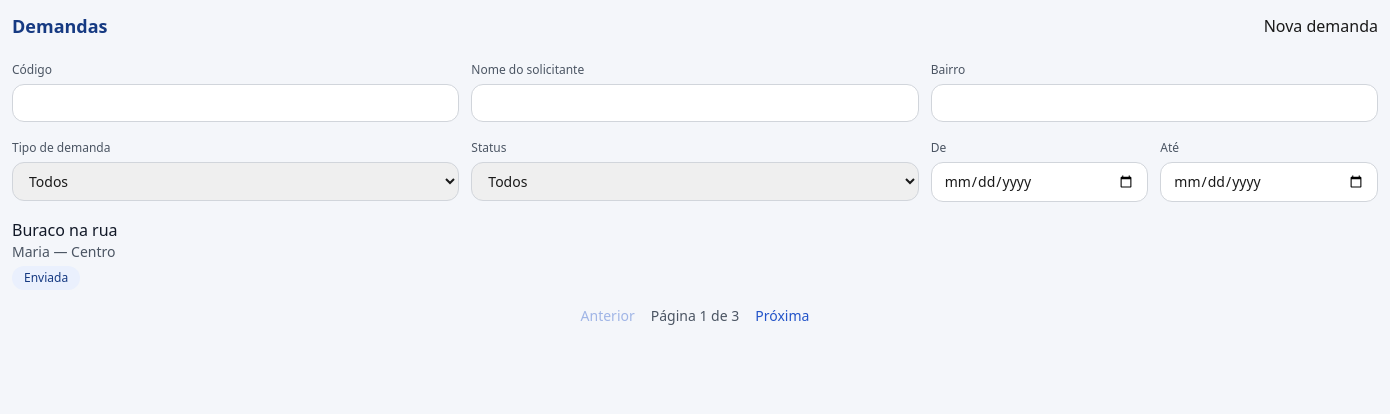
Test case: DemandasPage — robustez dos filtros › "Limpar filtros" limpa todos os campos, volta à página 1 e mantém o assessor da URL
This screenshot has width=1390, height=414.
Click the button "Próxima": (782, 316) 755,306 -> 809,326
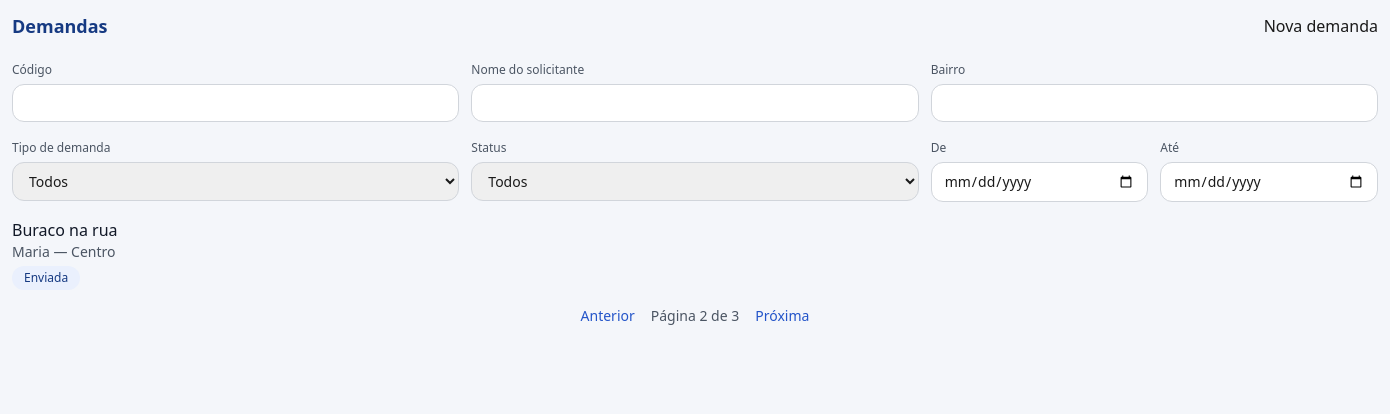
In the field labelled "Código": (236, 103) 12,84 -> 459,122, type "GD-1"
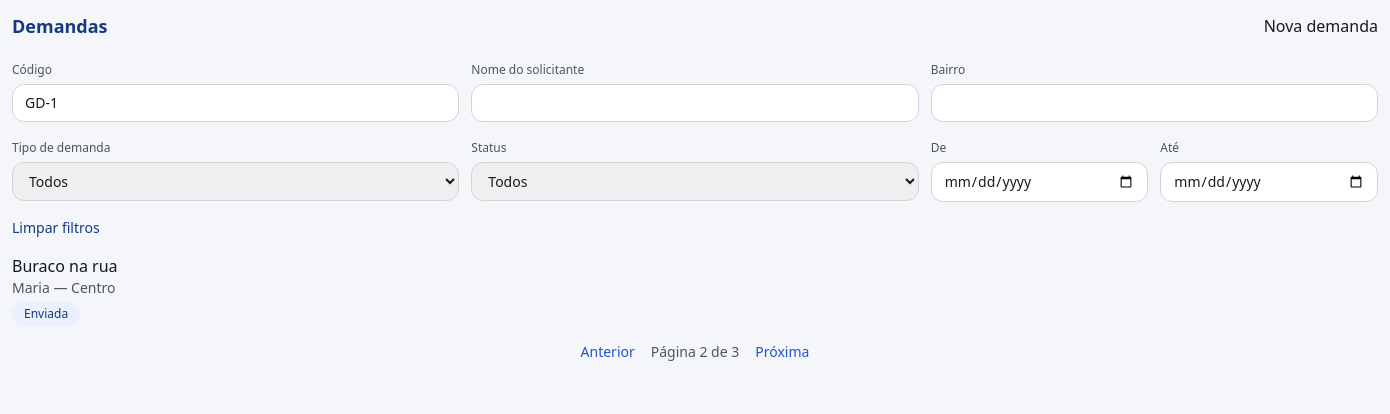
In the field labelled "Nome do solicitante": (695, 103) 471,84 -> 919,122, type "Maria"
In the field labelled "Bairro": (1154, 103) 931,84 -> 1378,122, type "Centro"
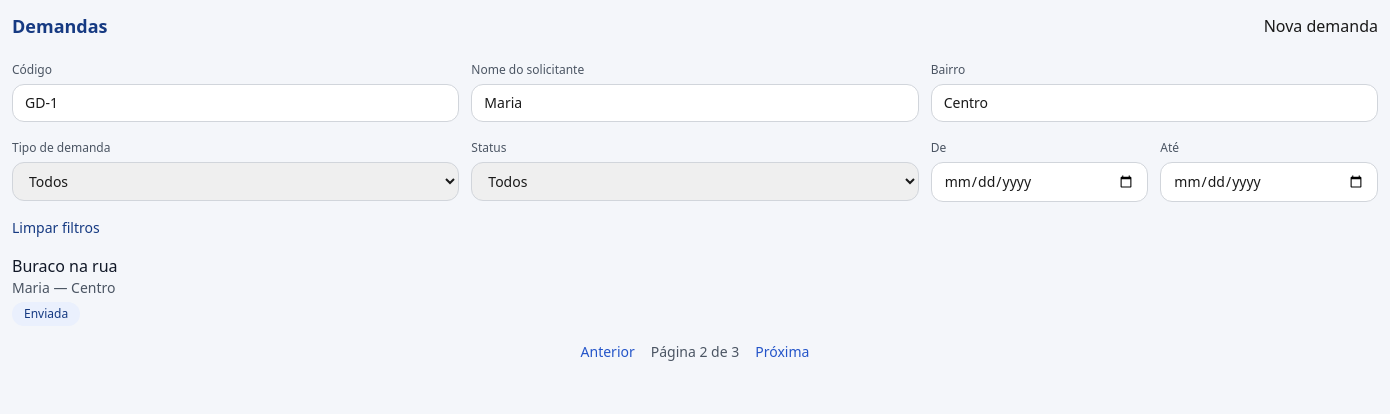
Select "Tapa-buraco" in the dropdown labelled "Tipo de demanda": (236, 182) 12,162 -> 459,201
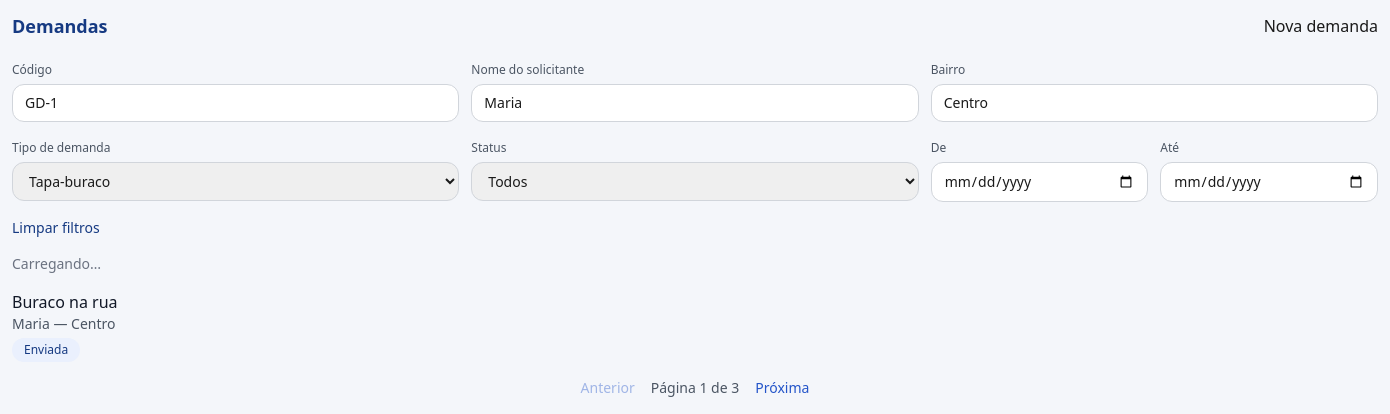
In the date field labelled "De": (1040, 182) 931,162 -> 1148,202, type "2026-10-01"
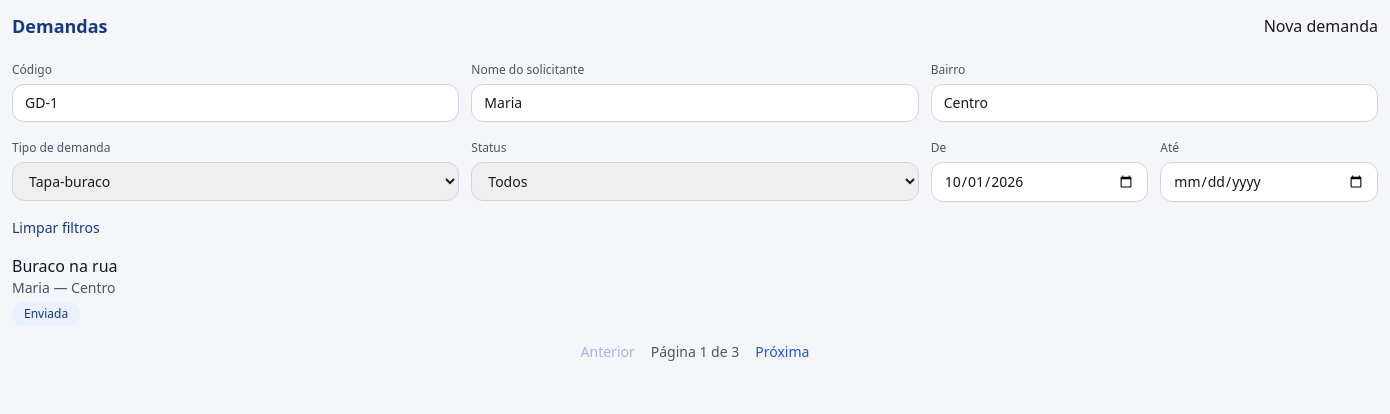
Click the button "Limpar filtros": (56, 228) 12,218 -> 100,238
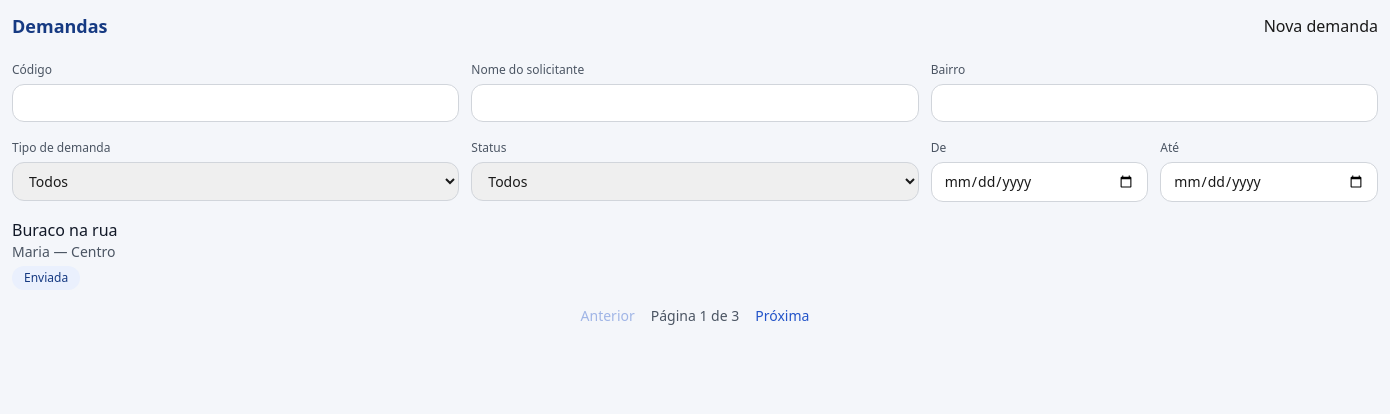
Check: the field labelled "Código" is empty, box 12,84 -> 459,122
Check: the field labelled "Nome do solicitante" is empty, box 471,84 -> 919,122
Check: the field labelled "Bairro" is empty, box 931,84 -> 1378,122
